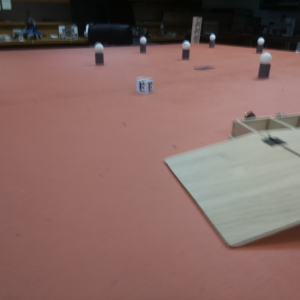blockE: (135, 77, 155, 92)
corner: (192, 17, 204, 43)
obstacle: (256, 55, 273, 81), (93, 43, 106, 69), (182, 42, 192, 61), (257, 38, 266, 55), (208, 34, 217, 49), (141, 37, 147, 55)
side: (227, 112, 298, 136)
slope: (162, 133, 299, 249)
start: (194, 64, 216, 74)
